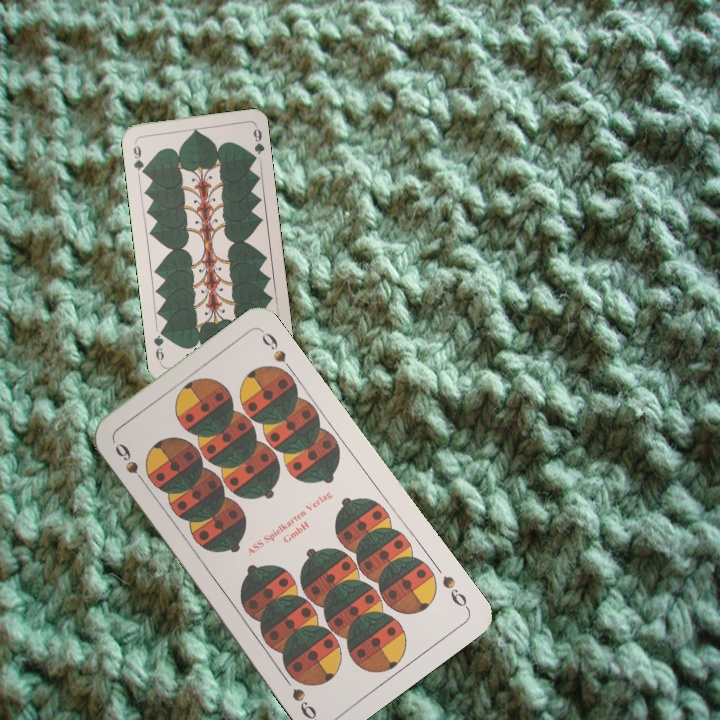G9: (129, 137, 148, 177)
S9: (111, 439, 151, 489), (438, 571, 472, 612)
